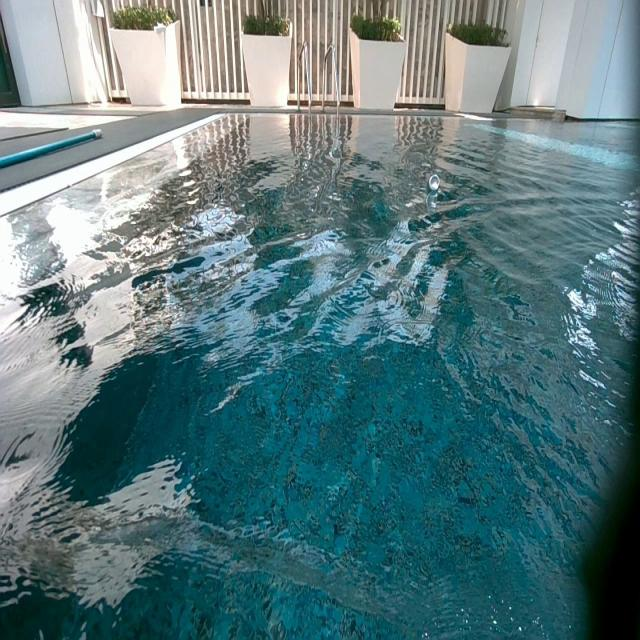Cans: (428, 174, 439, 189)
